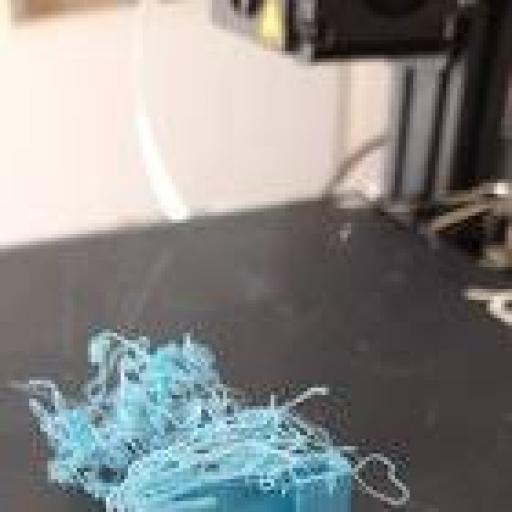spaghetti: (19, 313, 310, 512)
